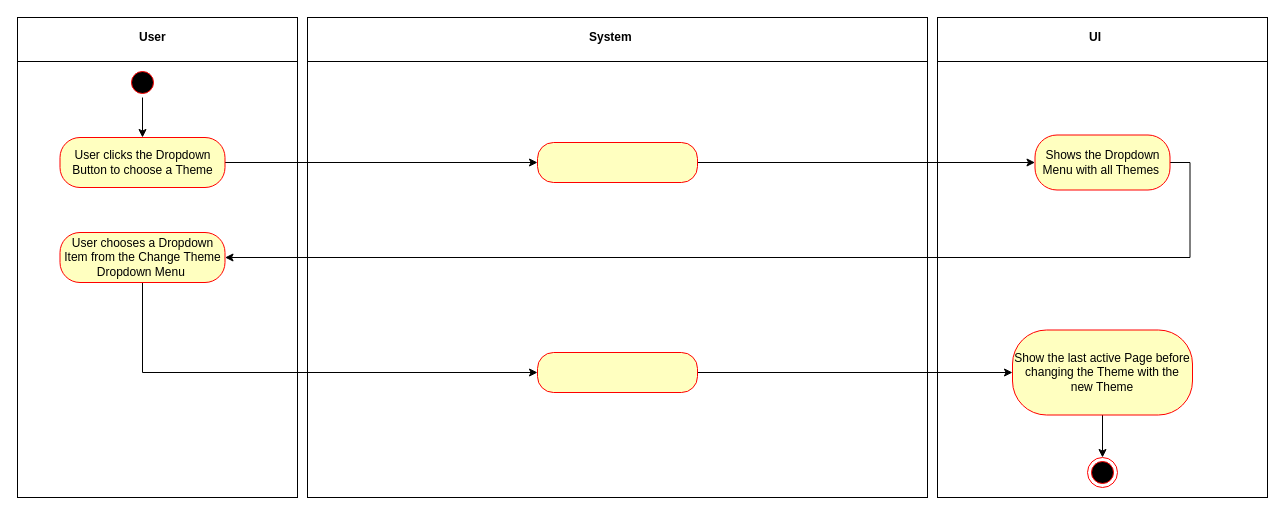
The diagram is 1285 pixels wide and 515 high, and some of its shapes have lost their labels. The shapes that lost their labels are listed below. From the top down, each one's centre as x and y in pixels, then its label:
At point 617,162: "get all Themes".
At point 617,372: "change the Theme for all Pages, Icons and Bars".
